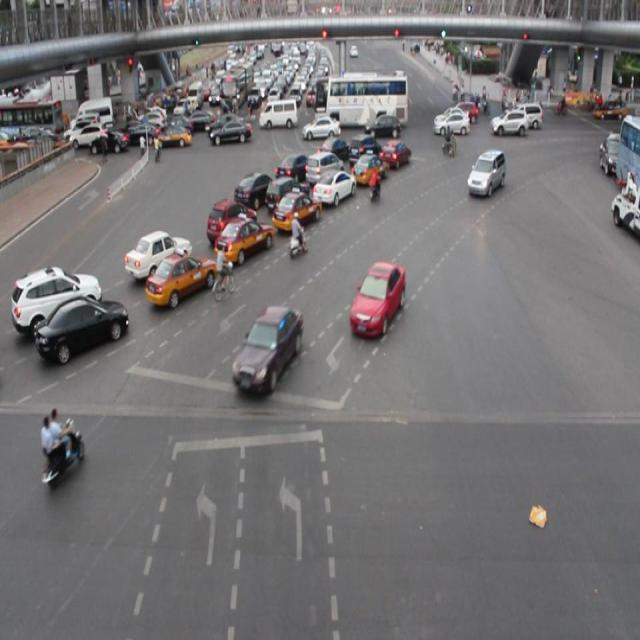BigCar: (316, 74, 407, 125)
car: (230, 308, 302, 400), (32, 300, 126, 364), (346, 260, 406, 343), (9, 264, 85, 319), (117, 230, 188, 274), (146, 263, 216, 301), (220, 219, 274, 263), (467, 152, 506, 204), (85, 118, 128, 162), (274, 192, 317, 230), (205, 119, 252, 152), (382, 132, 413, 175), (318, 168, 351, 208), (233, 167, 267, 204), (431, 102, 469, 135), (492, 112, 529, 144), (159, 122, 193, 154), (354, 149, 384, 185), (260, 104, 296, 130), (302, 115, 333, 142)
